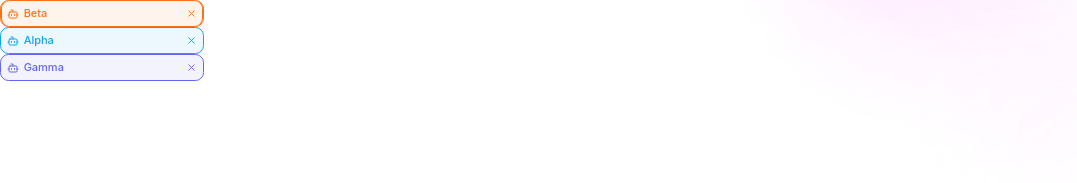
Test: new-chat chip menu › sets the picked agent as coordinator, hidden on the conductor and disabled where it cannot conduct
Right-click the text "Beta" at (102, 14), box [0,0,204,27]
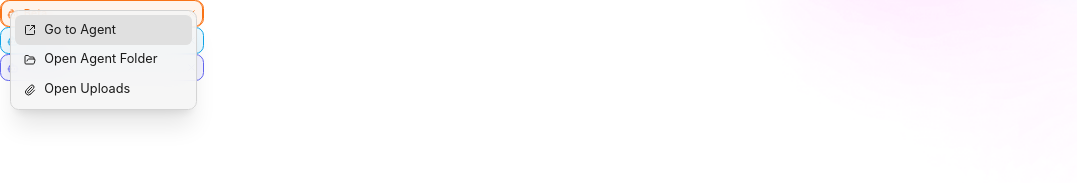
Expected: the menu item "Set as Coordinator" is not shown
Press Escape
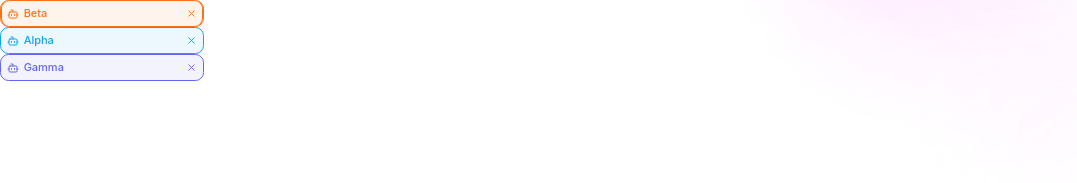
Right-click the text "Alpha" at (102, 40), box [0,27,204,54]
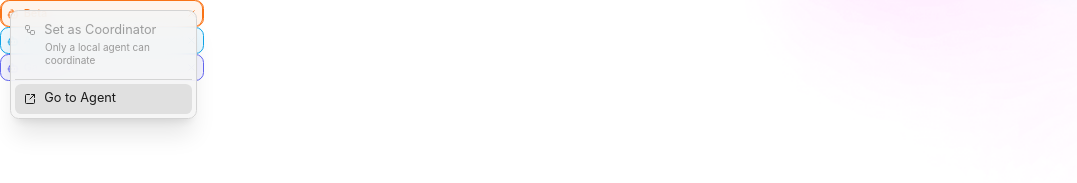
Expected: the menu item "Set as Coordinator" is disabled, [15,15,192,45]
Press Escape
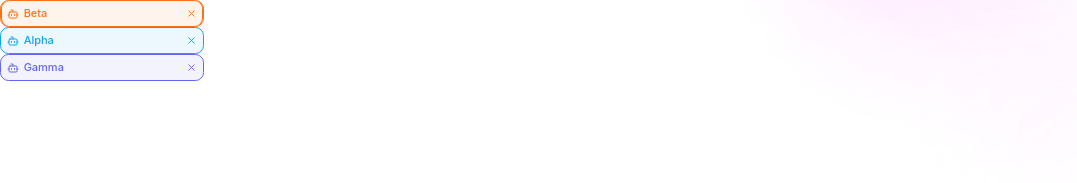
Right-click the text "Gamma" at (102, 68), box [0,54,204,81]
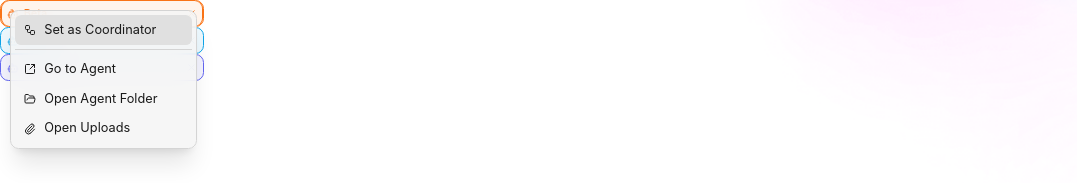
Expected: the menu items read "Set as Coordinator", "Go to Agent", "Open Agent Folder", "Open Uploads", in this order
Click the menu item "Set as Coordinator" at (104, 30), box [15,15,192,45]
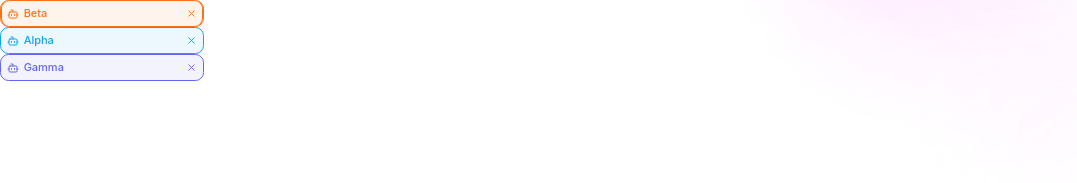
Expected: the menu is gone
